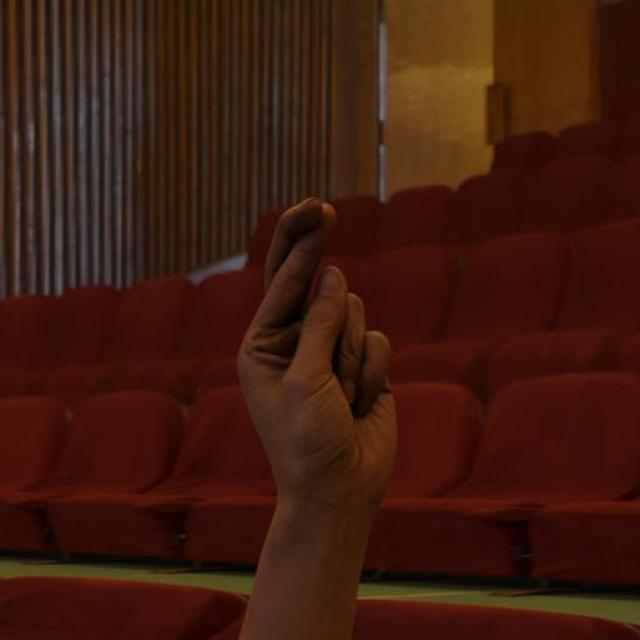R: (233, 193, 402, 502)
